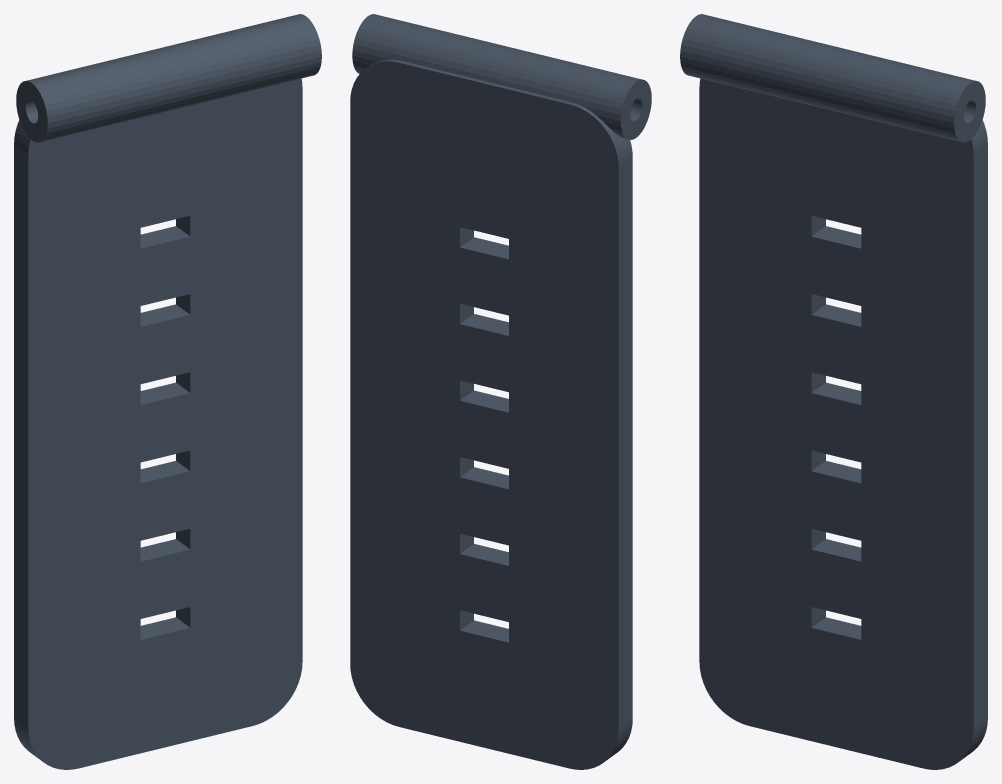
File: strap--30.glb
The picture shows the model from 3 angles, left to right: view 1: azimuth 30°, elevation 25°; view 2: azimuth 150°, elevation 25°; view 3: azimuth 330°, elevation 25°; orthographic projection. The views are drawn at different scales.
Visible parts, largest first — view 1: strap--30; view 2: strap--30; view 3: strap--30.
Part boxes in pixels (x1=…): strap--30: x1=14, y1=14, x2=321, y2=769; strap--30: x1=350, y1=14, x2=651, y2=769; strap--30: x1=680, y1=14, x2=987, y2=769.
Size of the model in its own units: 22 by 53.7 by 4.7.
